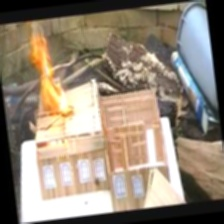fire: (16, 24, 80, 128)
